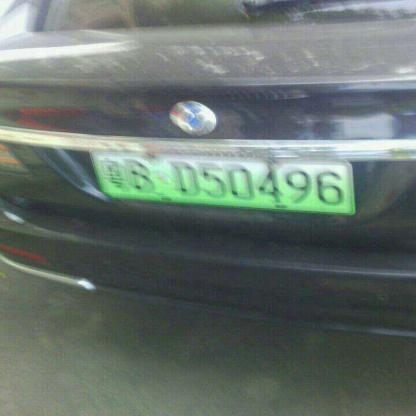lp: (94, 152, 352, 214)
